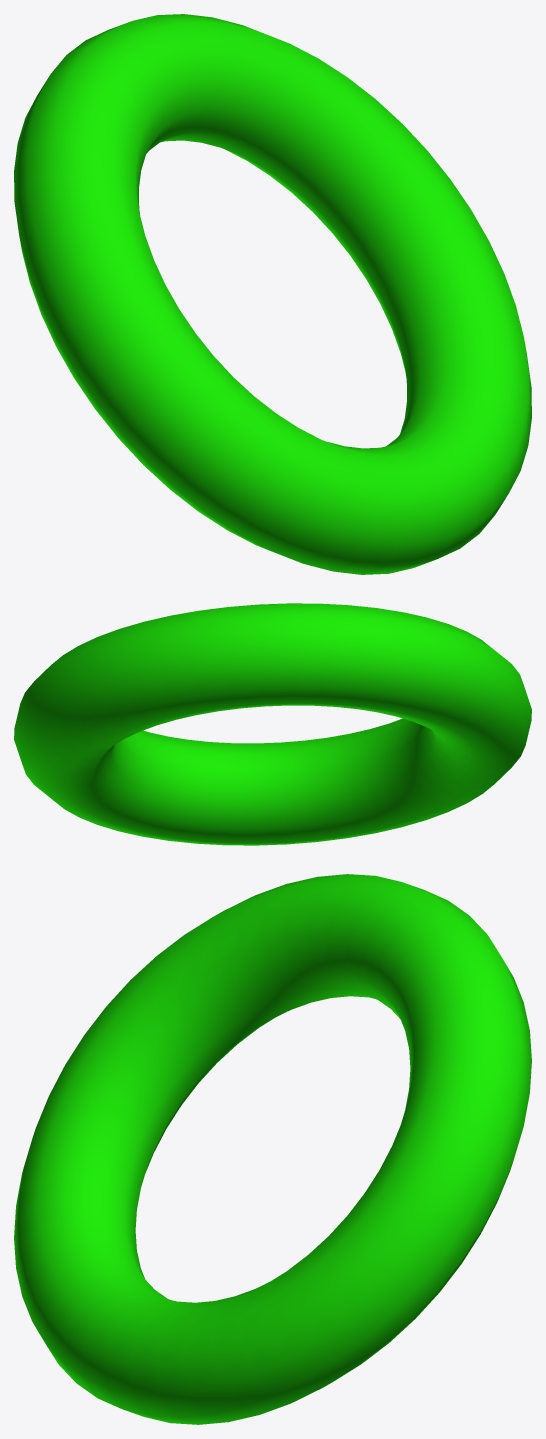
3 renders of one model, top to bottom at view 1: azimuth 30°, elevation 25°; view 2: azimuth 150°, elevation 25°; view 3: azimuth 270°, elevation 25°, orthographic. The views are drawn at different scales.
Visible parts, largest first — view 1: Torus; view 2: Torus; view 3: Torus.
Boxes of the visible parts, box(x1,y1,x2,y2) form: Torus: box(14, 14, 531, 574); Torus: box(14, 603, 531, 845); Torus: box(14, 874, 531, 1424).
Size of the model in its own units: 11.68 by 9.44 by 10.59.
